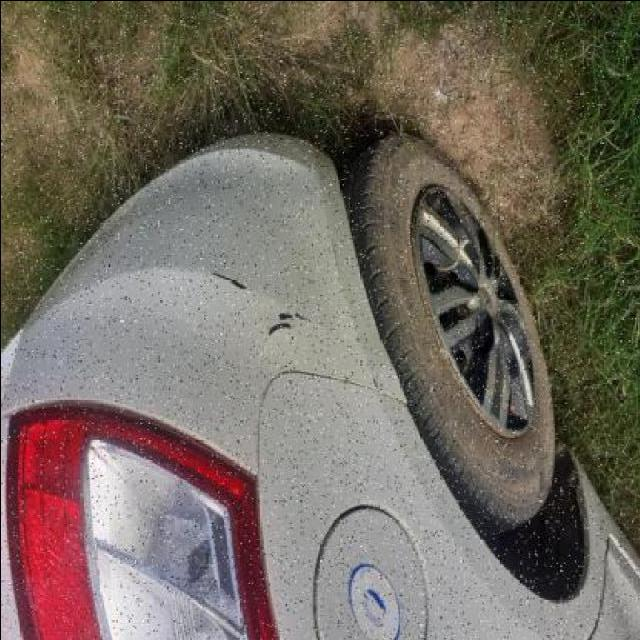rear-bumper-dent: (22, 123, 408, 379)
